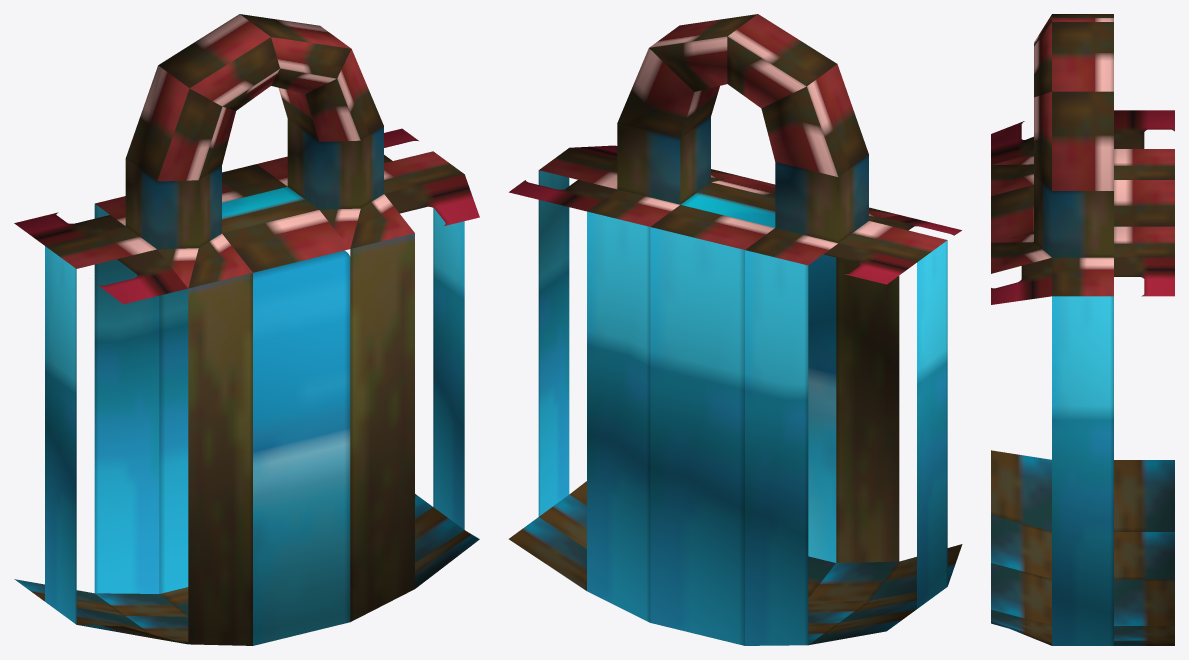
3 views of the same model, side by side, from view 1: azimuth 30°, elevation 25°; view 2: azimuth 150°, elevation 25°; view 3: azimuth 270°, elevation 25° (orthographic). The views are drawn at different scales.
Visible parts, largest first — view 1: T1L1M005_8; view 2: T1L1M005_8; view 3: T1L1M005_8.
Boxes of the visible parts, left/top/right/bottom form: T1L1M005_8: left=14, top=14, right=479, bottom=645; T1L1M005_8: left=509, top=14, right=962, bottom=645; T1L1M005_8: left=991, top=14, right=1174, bottom=645.
Size of the model in its own units: 0.4795 by 0.6973 by 0.2002.
